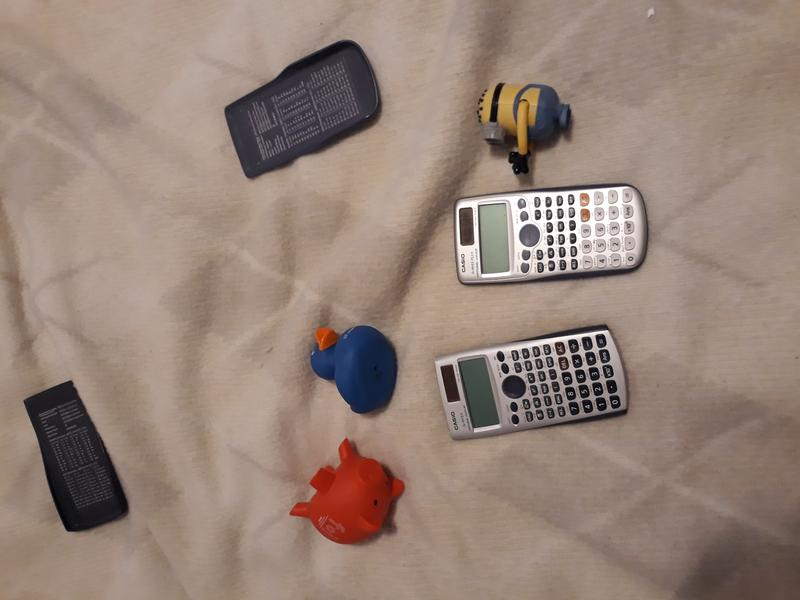CASIO_fx_991ES: (424, 317, 635, 448)
CASIO_fx_991ES_PLUS: (421, 181, 654, 285)
foi_gujdica: (276, 436, 413, 549)
plava_patkica: (287, 315, 406, 418)
